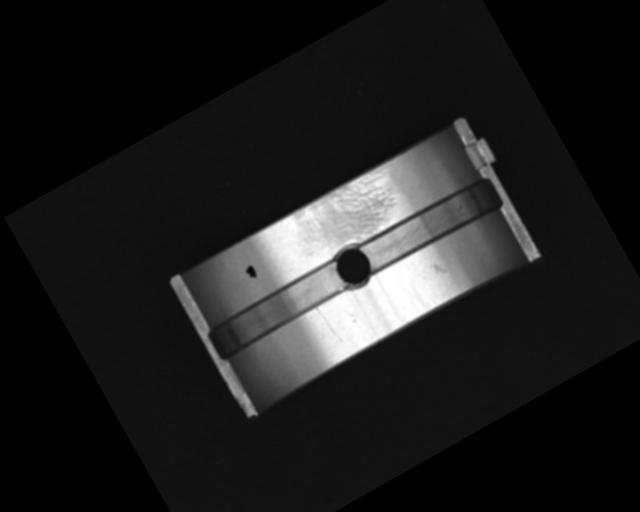blot: (242, 263, 260, 282)
bruise: (430, 259, 449, 278)
gap: (354, 171, 505, 278), (204, 256, 351, 361)
hole: (326, 238, 380, 297)
nick: (315, 304, 338, 338)
scratch: (282, 163, 410, 270)
